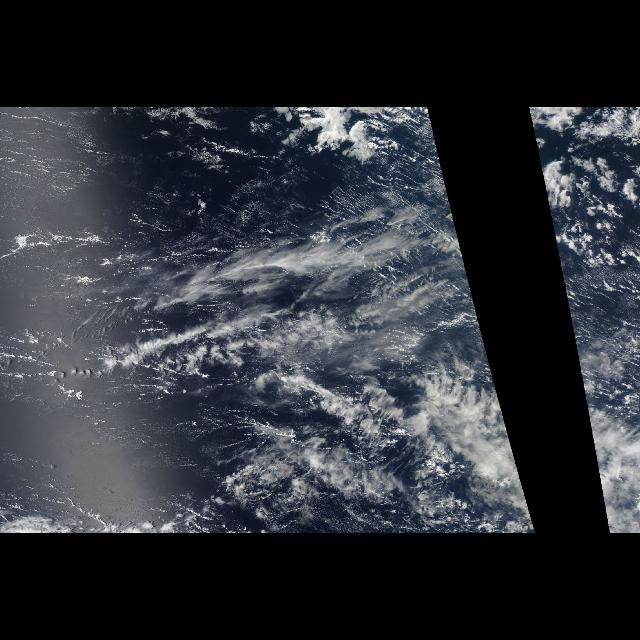Gravel: (542, 121, 640, 262)
Sugar: (0, 108, 274, 225), (324, 168, 446, 276), (570, 271, 640, 409)
